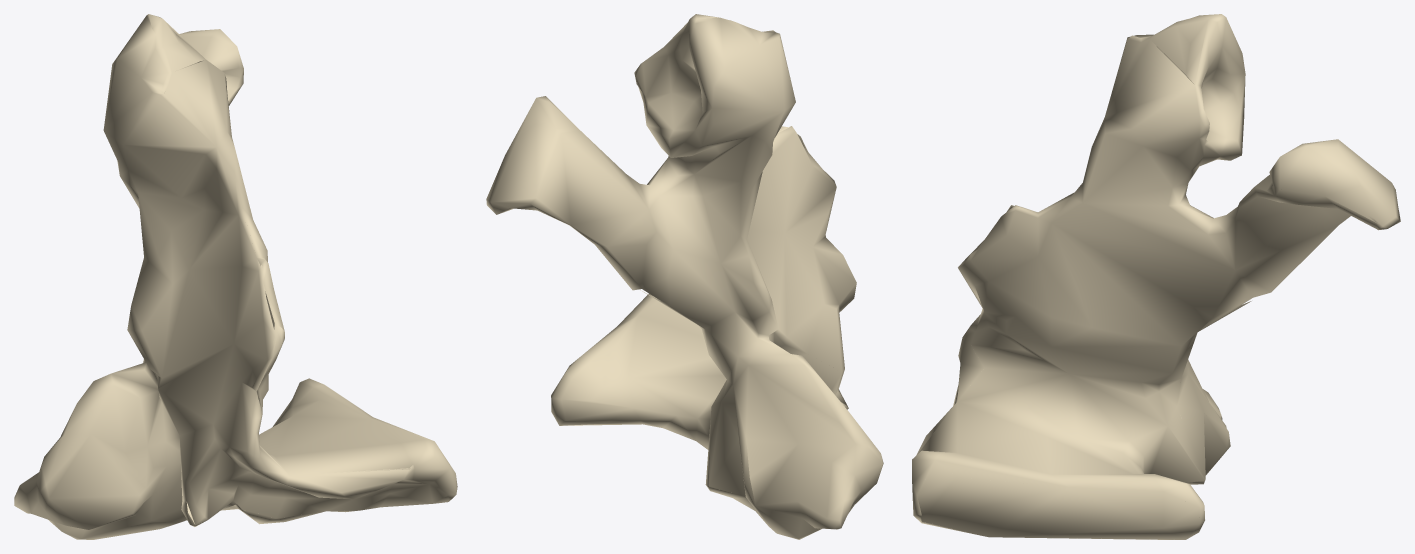
File: esqueleto-palatine-bone-r.glb
The picture shows the model from 3 angles, left to right: view 1: azimuth 30°, elevation 25°; view 2: azimuth 150°, elevation 25°; view 3: azimuth 270°, elevation 25°; orthographic projection. The views are drawn at different scales.
Parts seen in each view (by area): view 1: Palatine bone.r; view 2: Palatine bone.r; view 3: Palatine bone.r.
Part boxes in pixels (bbox=[...]): Palatine bone.r: bbox=[14, 14, 457, 539]; Palatine bone.r: bbox=[486, 14, 883, 539]; Palatine bone.r: bbox=[912, 14, 1400, 539].
Size of the model in its own units: 0.0263 by 0.0402 by 0.0352.
